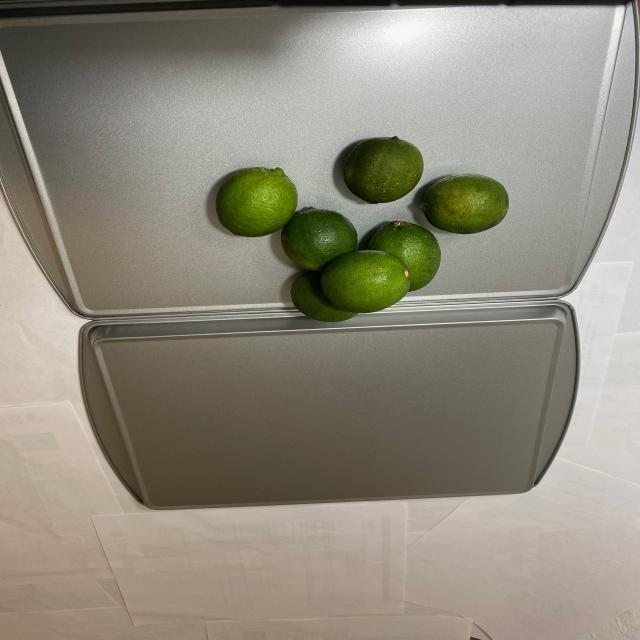lemon: (211, 131, 515, 322)
